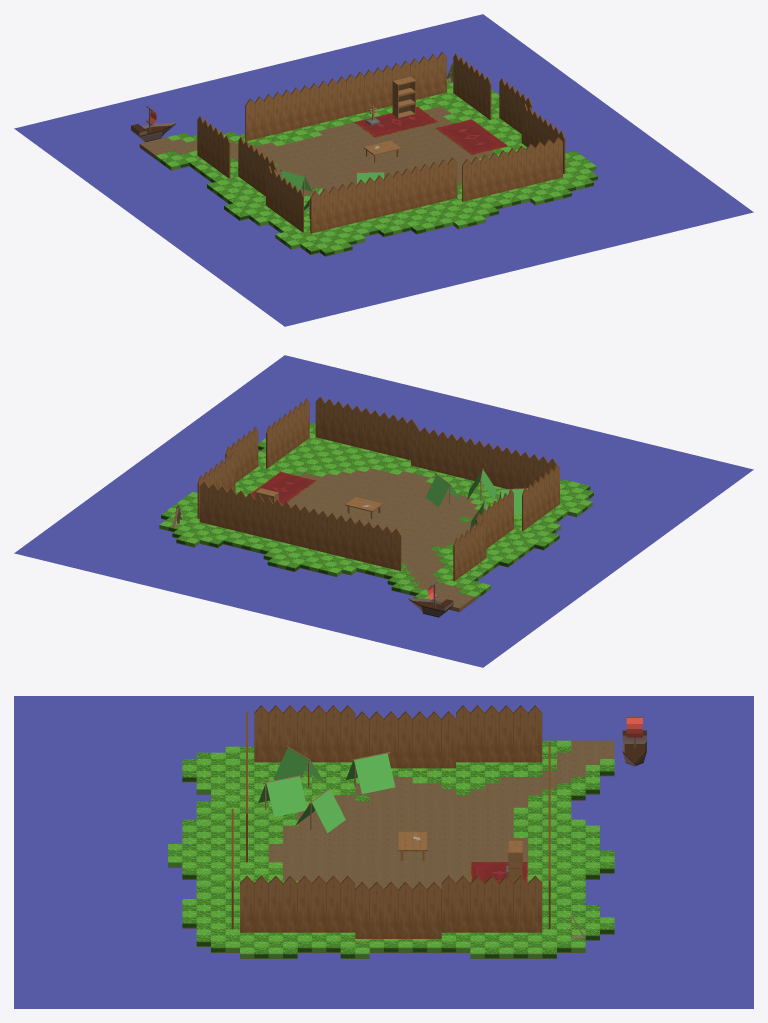
3 views of the same model, one above another, from view 1: azimuth 30°, elevation 25°; view 2: azimuth 150°, elevation 25°; view 3: azimuth 270°, elevation 25° (orthographic). The views are drawn at different scales.
Parts seen in each view (by area): view 1: Plane.001, Cube.600, Fence, Fence.003, Fence.006, Fence.001, Fence.007, Fence.002, Carpet.001, Fence.008, Fence.004, Carpet (+3 smaller); view 2: Plane.001, Cube.600, Fence, Fence.003, Fence.006, Fence.004, Fence.007, Fence.002, Fence.008, Fence.005, Carpet.001, Fence.001 (+2 smaller); view 3: Plane.001, Cube.600, Fence.004, Fence.001, Fence.007, Fence.008, Fence.002, Fence.005, Tent4, Tent2, Cube, Tent1 (+5 smaller).
Part boxes in pixels (bbox=[...]): Plane.001: bbox=[14, 14, 753, 326]; Cube.600: bbox=[139, 63, 597, 256]; Fence: bbox=[245, 52, 446, 140]; Fence.003: bbox=[310, 157, 457, 233]; Fence.006: bbox=[462, 137, 562, 201]; Fence.001: bbox=[453, 53, 491, 119]; Fence.007: bbox=[266, 166, 303, 232]; Fence.002: bbox=[197, 116, 230, 178]; Carpet.001: bbox=[435, 119, 508, 155]; Fence.008: bbox=[238, 136, 276, 196]; Fence.004: bbox=[521, 103, 565, 173]; Carpet: bbox=[354, 106, 438, 137]; Plane.001: bbox=[14, 355, 753, 667]; Cube.600: bbox=[159, 423, 593, 612]; Fence: bbox=[199, 481, 401, 570]; Fence.003: bbox=[411, 425, 557, 488]; Fence.006: bbox=[315, 396, 416, 460]; Fence.004: bbox=[266, 398, 309, 468]; Fence.007: bbox=[522, 464, 559, 530]; Fence.002: bbox=[453, 518, 486, 581]; Fence.008: bbox=[475, 489, 513, 548]; Fence.005: bbox=[225, 427, 258, 482]; Carpet.001: bbox=[246, 471, 316, 505]; Fence.001: bbox=[197, 452, 235, 518]; Plane.001: bbox=[14, 696, 753, 1008]; Cube.600: bbox=[168, 740, 614, 958]; Fence.004: bbox=[240, 875, 355, 932]; Fence.001: bbox=[441, 875, 542, 932]; Fence.007: bbox=[254, 705, 355, 762]; Fence.008: bbox=[355, 711, 455, 768]; Fence.002: bbox=[456, 705, 542, 762]; Fence.005: bbox=[355, 881, 441, 938]; Tent4: bbox=[346, 752, 395, 793]; Tent2: bbox=[258, 775, 306, 816]; Cube: bbox=[622, 716, 646, 766]; Tent1: bbox=[295, 788, 345, 833].
Bounding box in the file's own units: 10271 × 1030 × 10271.
